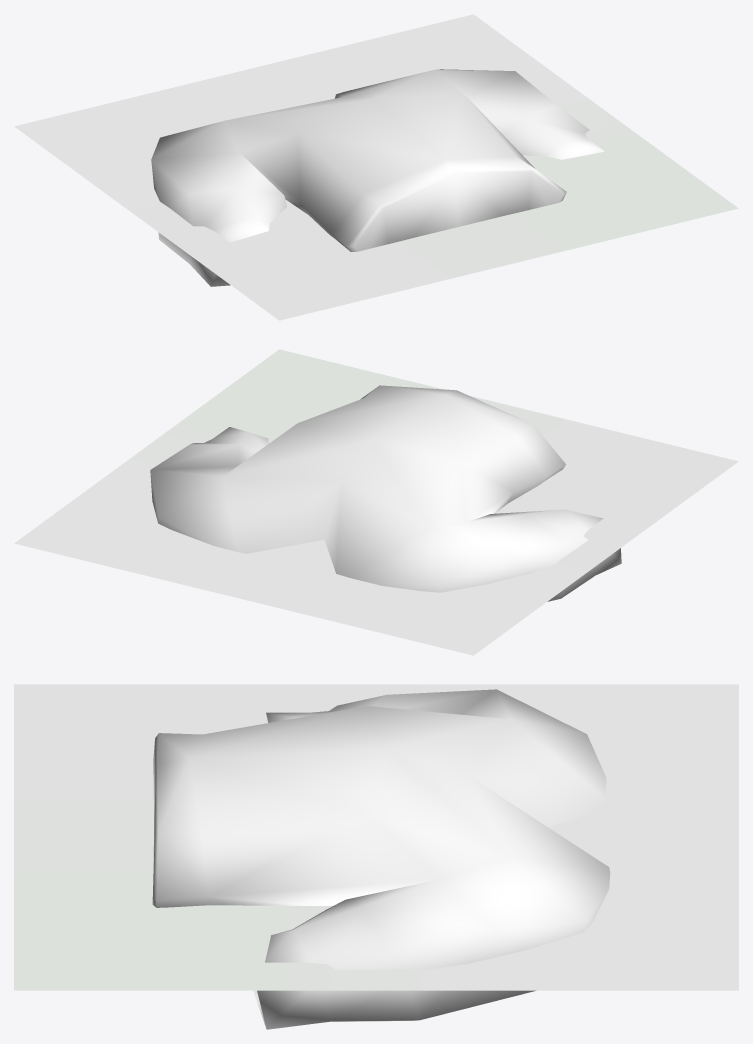
The model's file is ITAR_SAILOR_04.glb.
The picture shows the model from 3 angles, top to bottom: view 1: azimuth 30°, elevation 25°; view 2: azimuth 150°, elevation 25°; view 3: azimuth 270°, elevation 25°; orthographic projection. The views are drawn at different scales.
Parts seen in each view (by area): view 1: Mesh; view 2: Mesh; view 3: Mesh.
Part boxes in pixels (bbox=[...]): Mesh: bbox=[14, 14, 738, 320]; Mesh: bbox=[14, 349, 738, 655]; Mesh: bbox=[14, 684, 738, 1029].
Size of the model in its own units: 0.7243 by 0.1802 by 0.7243.
Materials: 2 (1 with a texture image).
